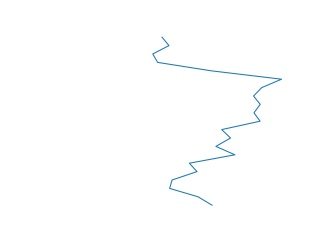floodPlain: (151, 37, 285, 208)
